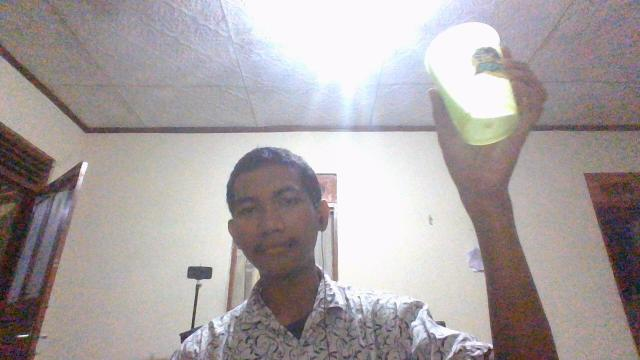botol-hijau: (422, 21, 522, 146)
